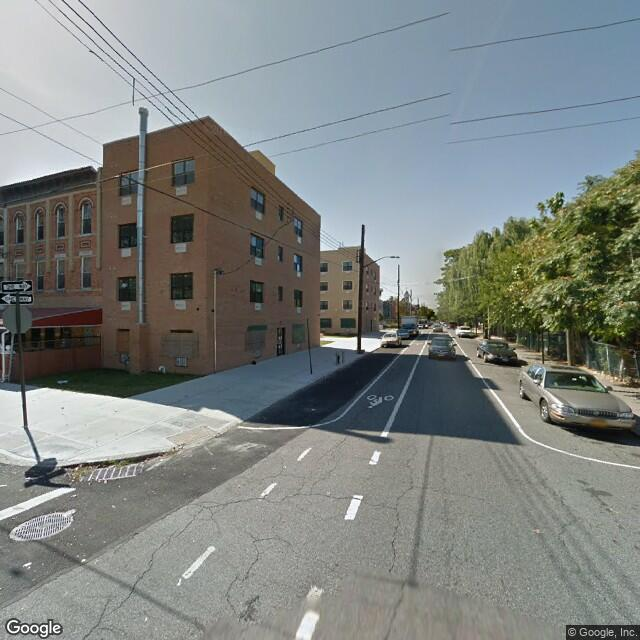litter: (46, 371, 76, 390), (155, 359, 180, 381), (62, 490, 83, 501)
